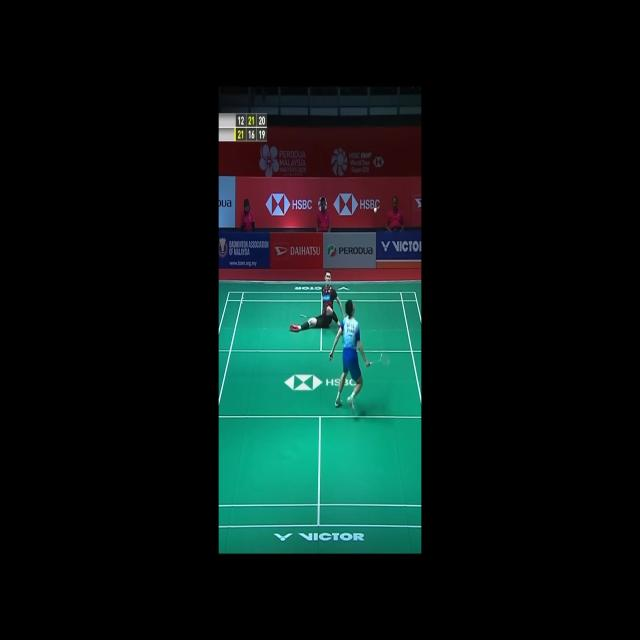shuttle-P15u: (375, 207, 377, 214)
